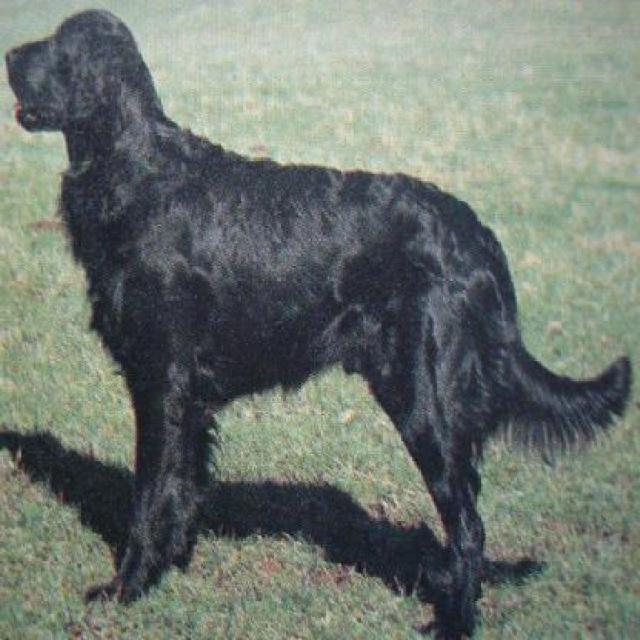Dog: (2, 3, 636, 637)
